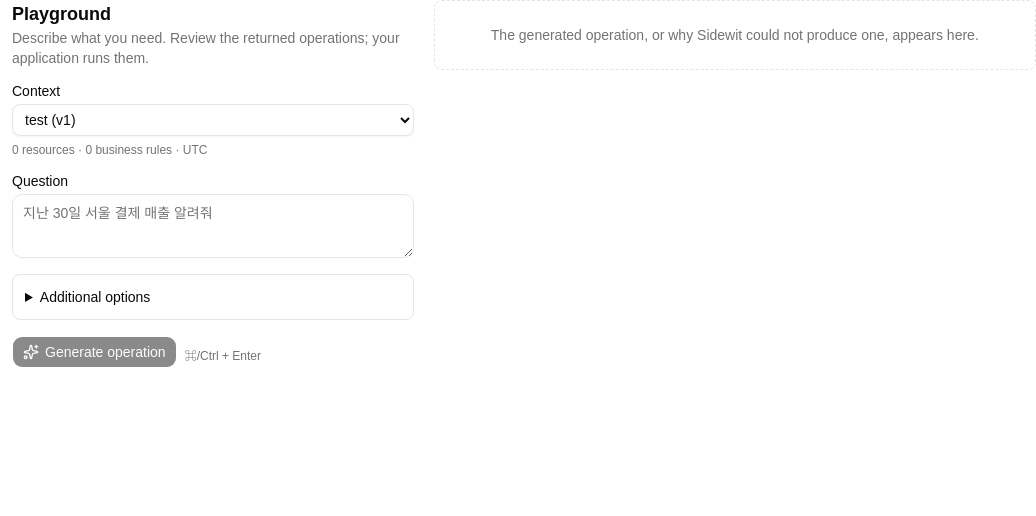
Test: missing or malformed SQL is explained without crashing: null
This screenshot has width=1036, height=516.
Type "keep my question" into the text box labelled "Question" at (213, 226), box [12,194,414,258]
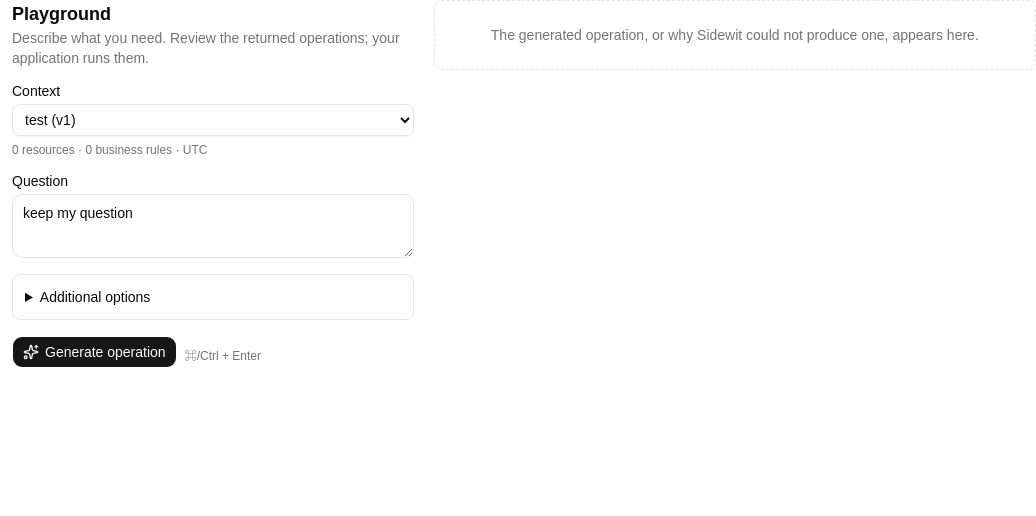
Click the button "Generate operation" at (94, 352), box [12,336,177,368]
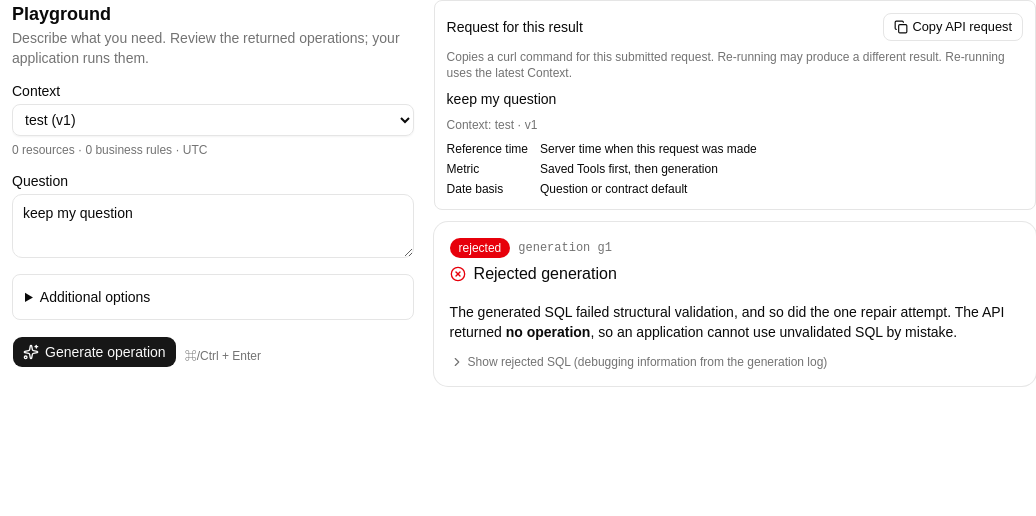
Click the button "Show rejected SQL" at (638, 362), box [450,354,827,370]
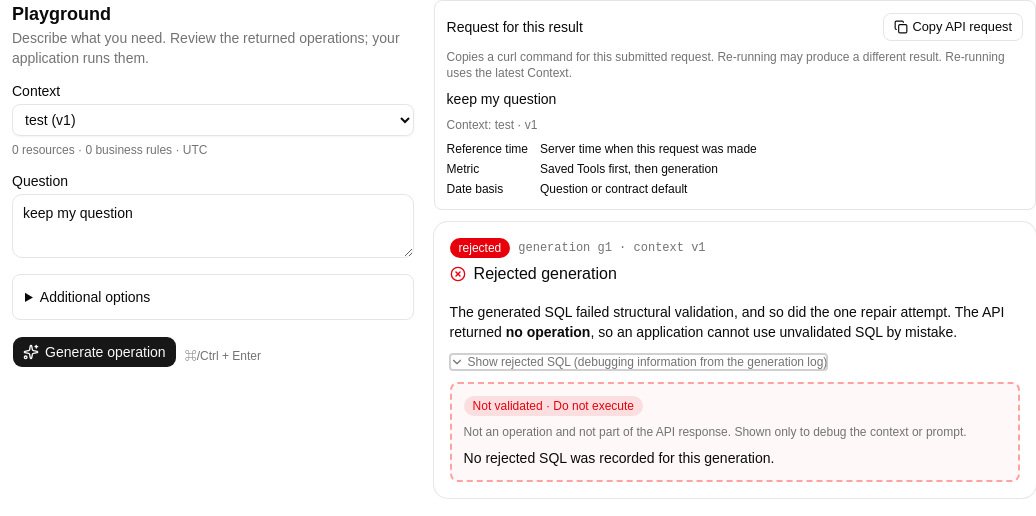
Now the text "No rejected SQL was recorded for this generation." is shown, box [464,450,774,466]
